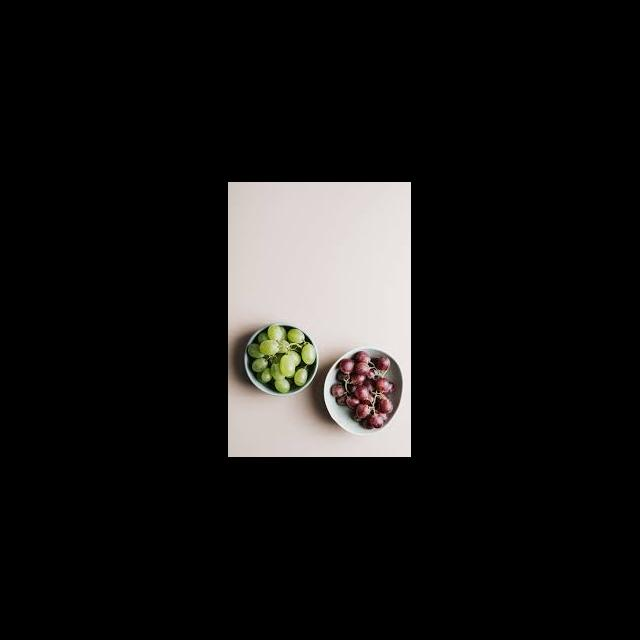grape: (330, 350, 394, 430), (247, 324, 316, 394)
